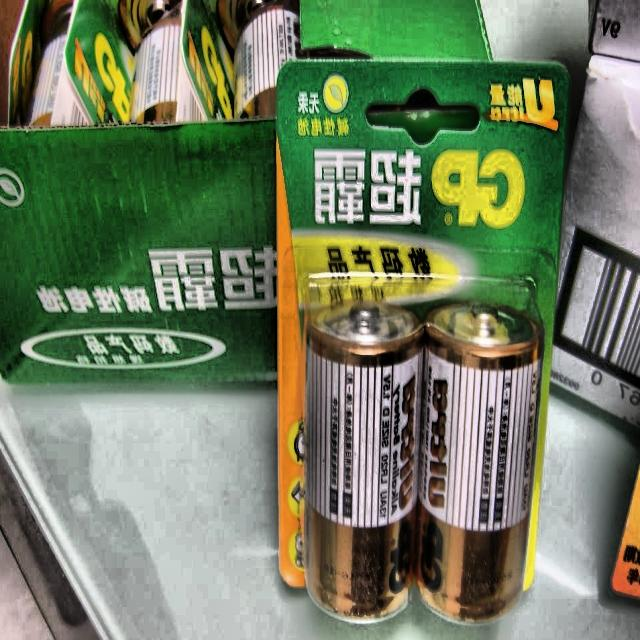Non-Valuable Waste - Batteries: (416, 302, 543, 622), (305, 302, 424, 621)
